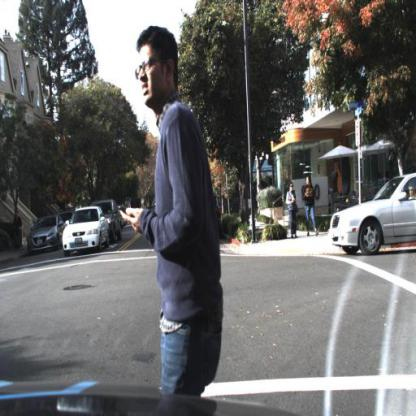car: (330, 174, 416, 255), (62, 205, 111, 258), (28, 212, 68, 256), (104, 199, 122, 246), (216, 193, 224, 242), (176, 199, 188, 220)
pedestrian: (116, 29, 238, 400), (304, 175, 320, 237), (288, 183, 300, 240)
